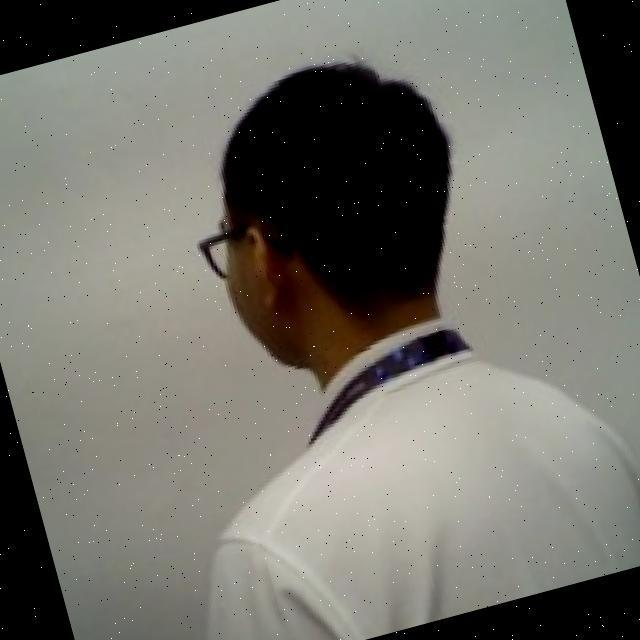no_gloves: (187, 31, 494, 352)
